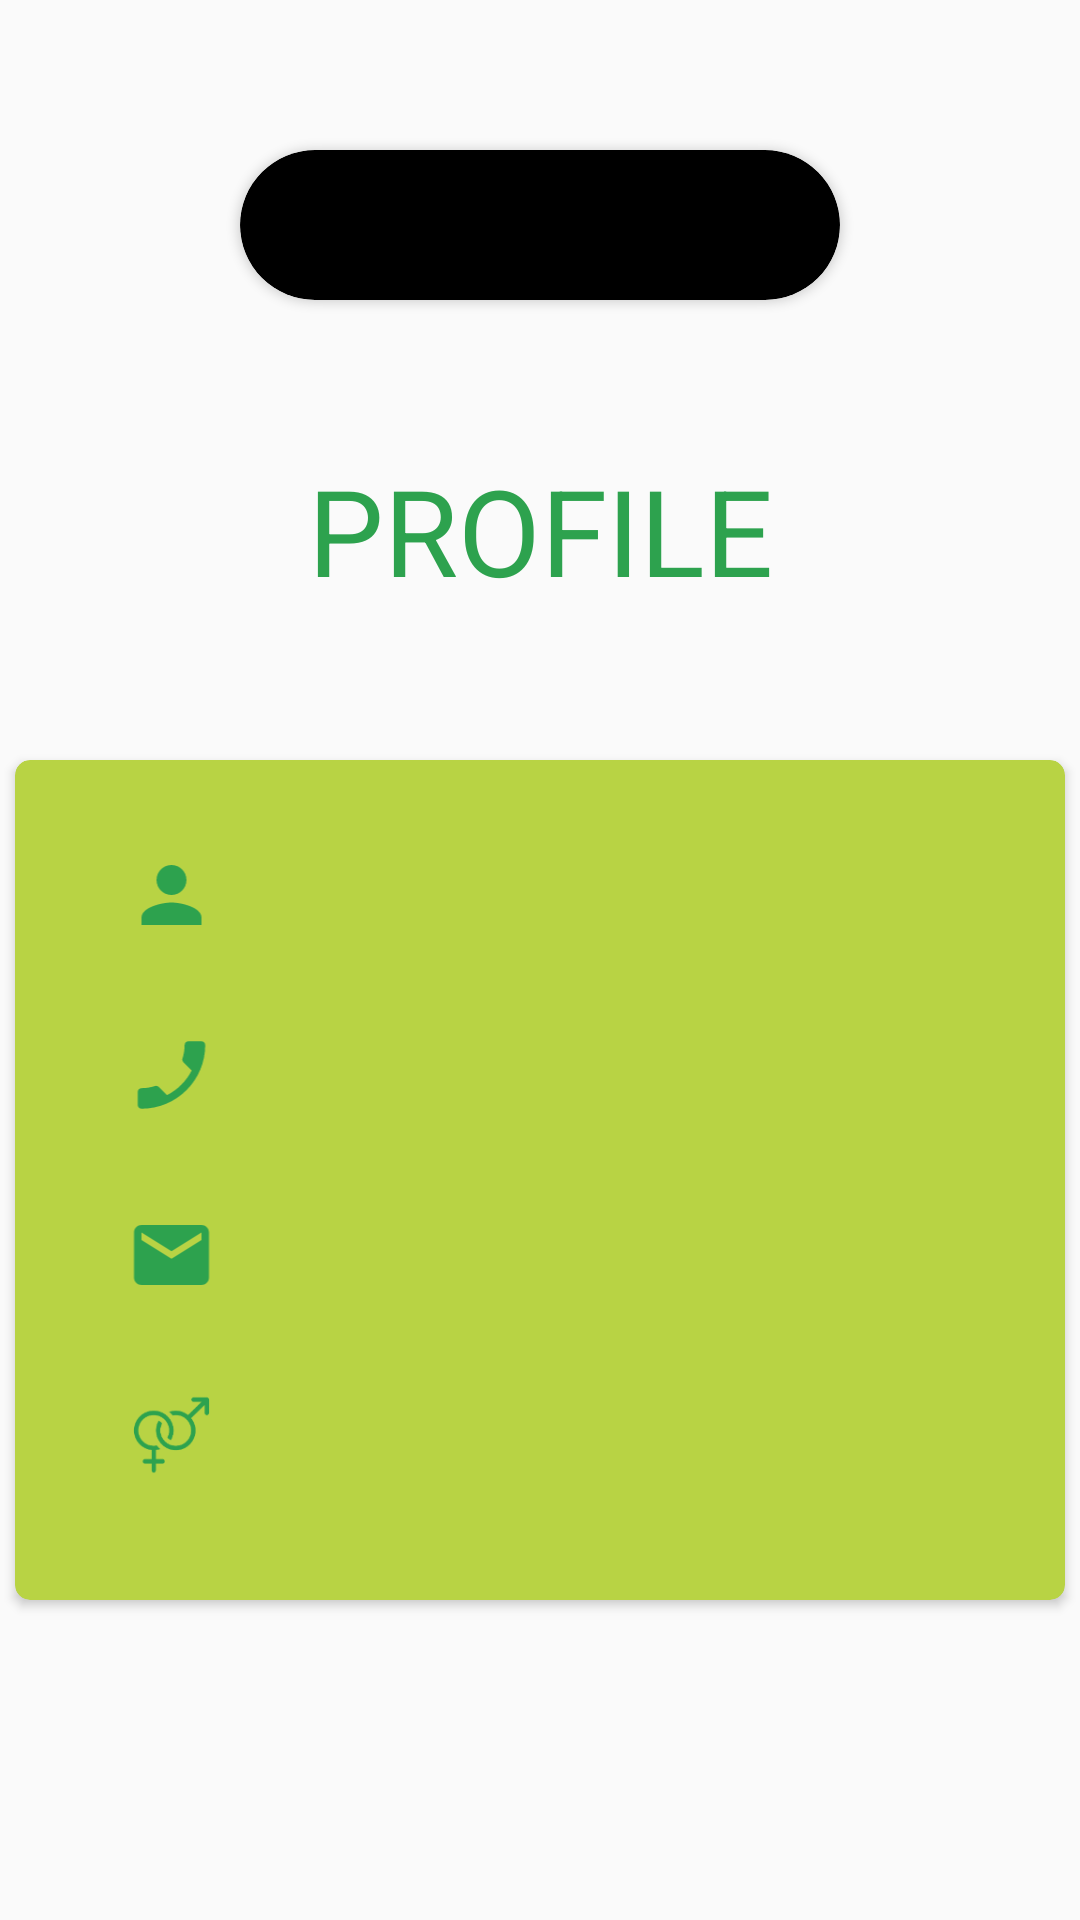

Icons on this 1080w x 1920h Android screen, each with its box as (x1, y1, x2, y2):
email: (133, 1225, 210, 1285)
gender: (134, 1397, 209, 1473)
person: (141, 865, 202, 925)
phone: (137, 1041, 206, 1109)
